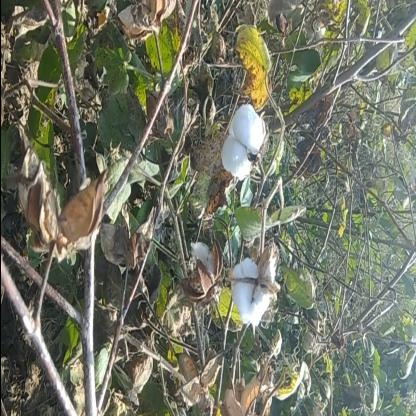cotton_ready: (224, 244, 284, 324), (217, 80, 261, 188)
